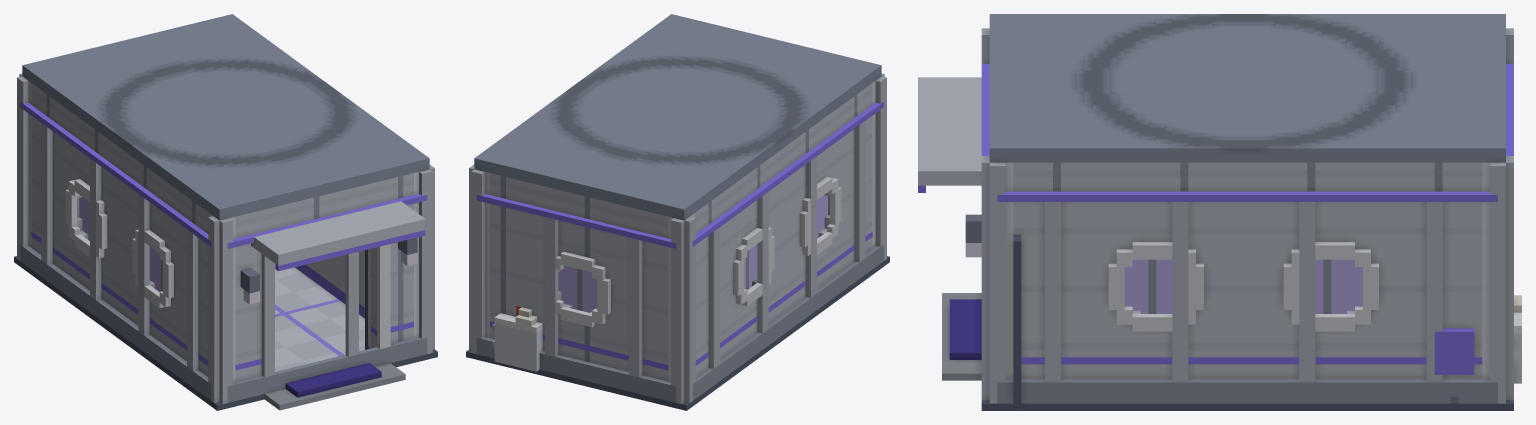
File: lab_e5_l2.glb
3 views of the same model, side by side, from view 1: azimuth 30°, elevation 25°; view 2: azimuth 150°, elevation 25°; view 3: azimuth 270°, elevation 25° (orthographic). The views are drawn at different scales.
Parts seen in each view (by area): view 1: CutRoof, Base, CutPZ, CutNX, CutNZ; view 2: CutRoof, CutNZ, Base, CutNX, CutPZ; view 3: CutPX, CutRoof, Base, CutPZ, CutNZ.
Part boxes in pixels (x1=…): CutRoof: x1=22, y1=14, x2=429, y2=220; Base: x1=14, y1=209, x2=437, y2=410; CutPZ: x1=208, y1=164, x2=434, y2=354; CutNX: x1=20, y1=83, x2=211, y2=343; CutNZ: x1=17, y1=73, x2=31, y2=214; CutRoof: x1=474, y1=14, x2=881, y2=220; CutNZ: x1=469, y1=164, x2=695, y2=354; Base: x1=466, y1=209, x2=889, y2=410; CutNX: x1=692, y1=83, x2=883, y2=343; CutPZ: x1=872, y1=73, x2=886, y2=214; CutPX: x1=997, y1=162, x2=1497, y2=338; CutRoof: x1=989, y1=14, x2=1505, y2=162; Base: x1=942, y1=293, x2=1521, y2=410; CutPZ: x1=918, y1=28, x2=1021, y2=342; CutNZ: x1=1482, y1=28, x2=1513, y2=338.
Size of the model in its own units: 4.3 by 3.6 by 7.6.
